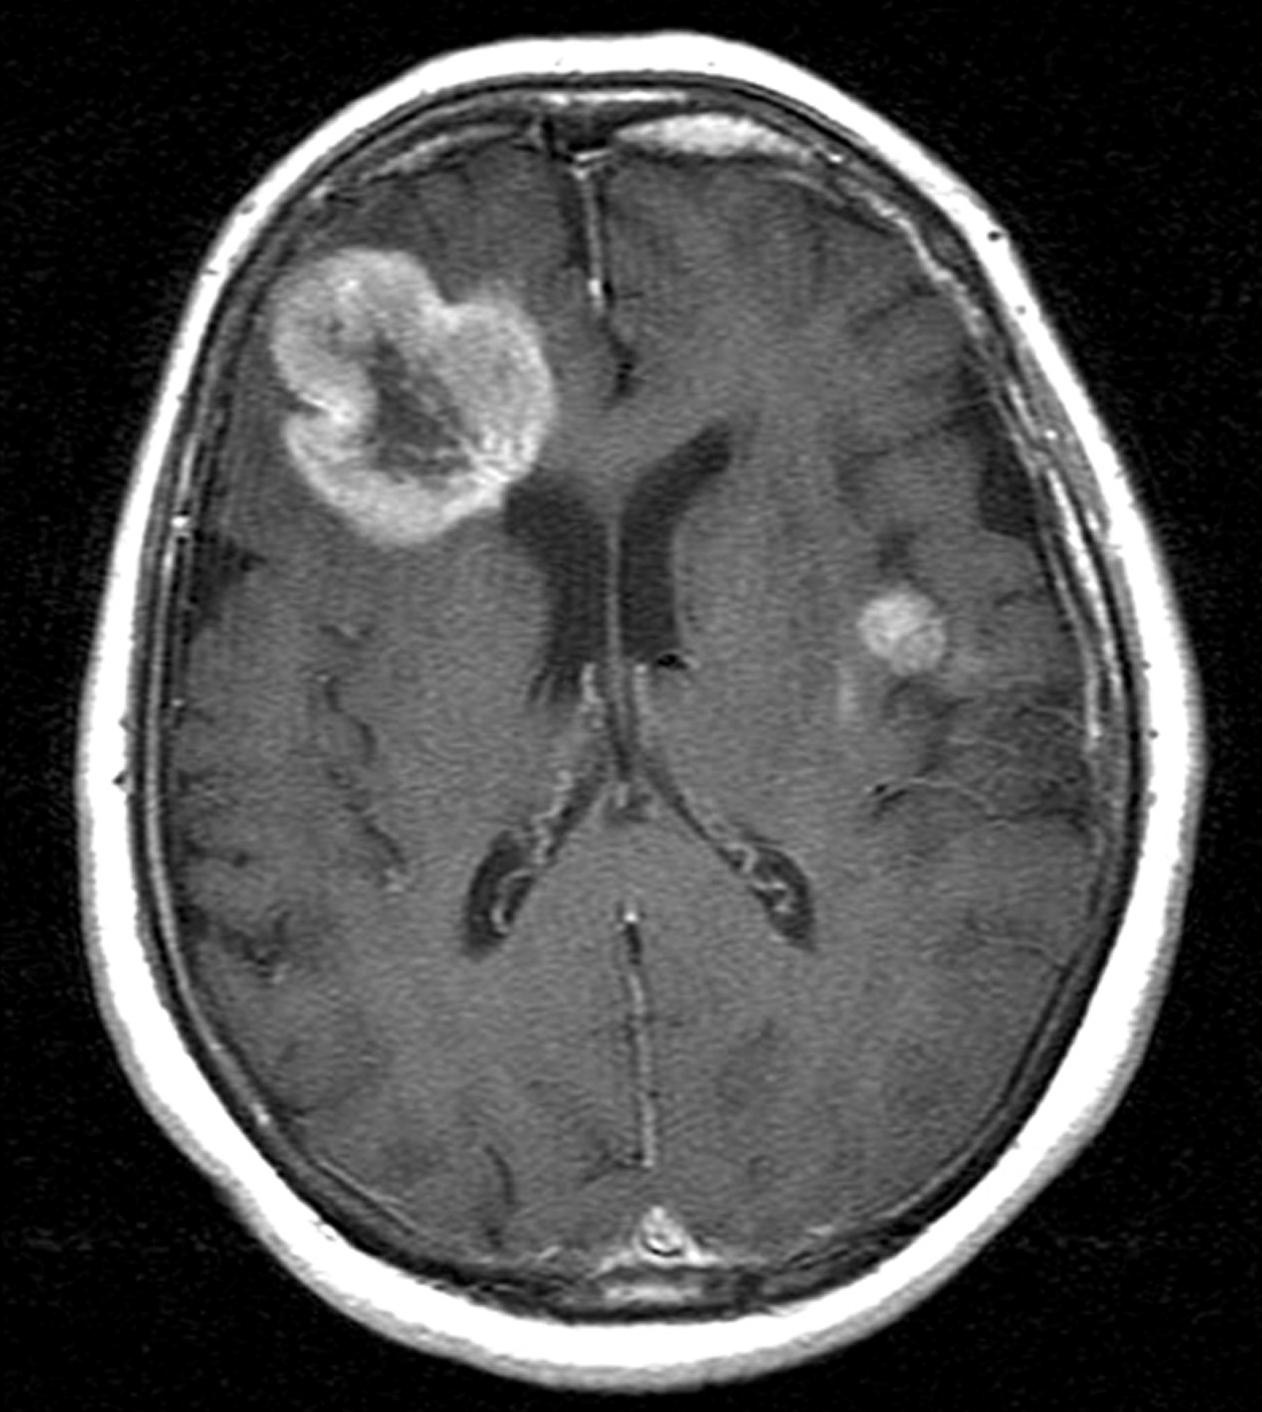Tumour-Meningioma: (238, 202, 629, 588)
